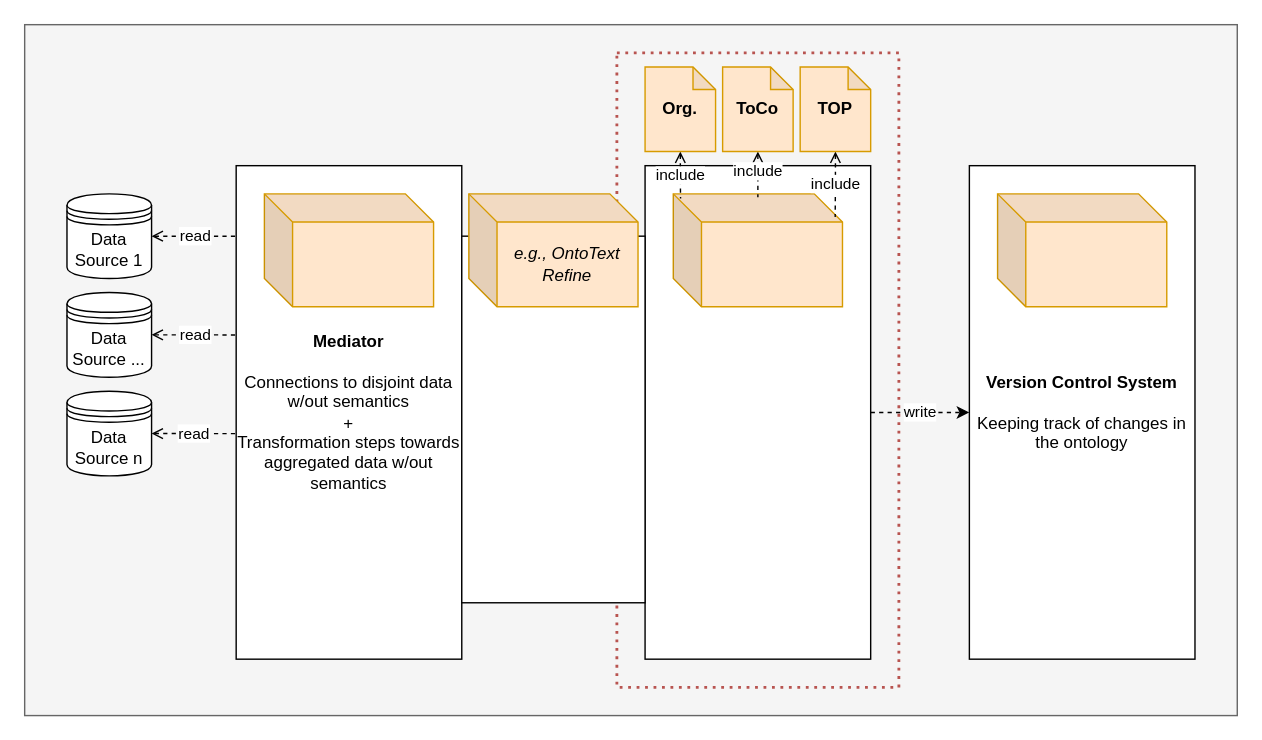
This 1262x740 diagram has some shape labels left out. Here are the shapes that lost their labels. From the top down, the box of each, then its label:
(263, 192, 434, 307): e.g., TrustRelay
(672, 192, 842, 307): Metaphactory
(996, 192, 1167, 307): GitHub
(460, 235, 645, 603): Bridge Establishing linkage between mediator and ontology platform
(644, 164, 871, 659): Ontology Platform Semantic representation of domain and data
